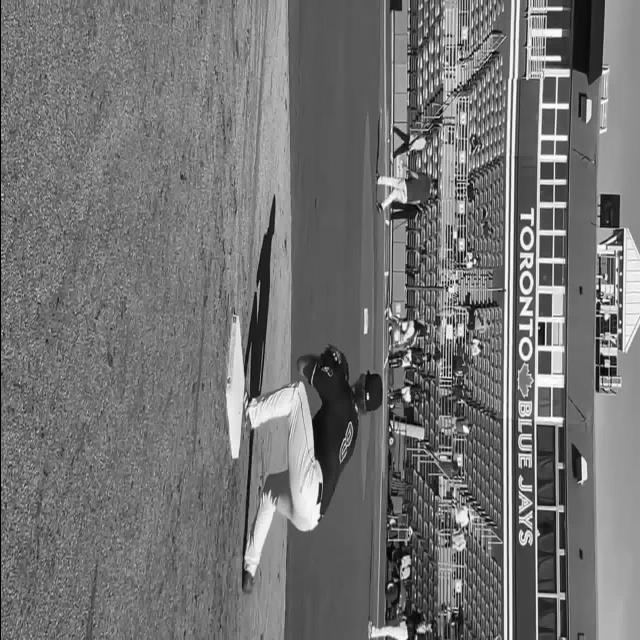base: (225, 313, 244, 458)
baseball_glove: (320, 345, 348, 380)
shoe: (240, 391, 251, 433), (240, 569, 254, 596)
